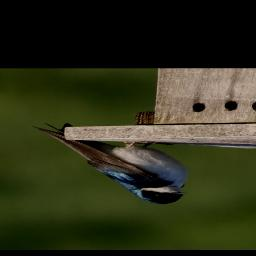Swallow: (31, 118, 191, 205)
